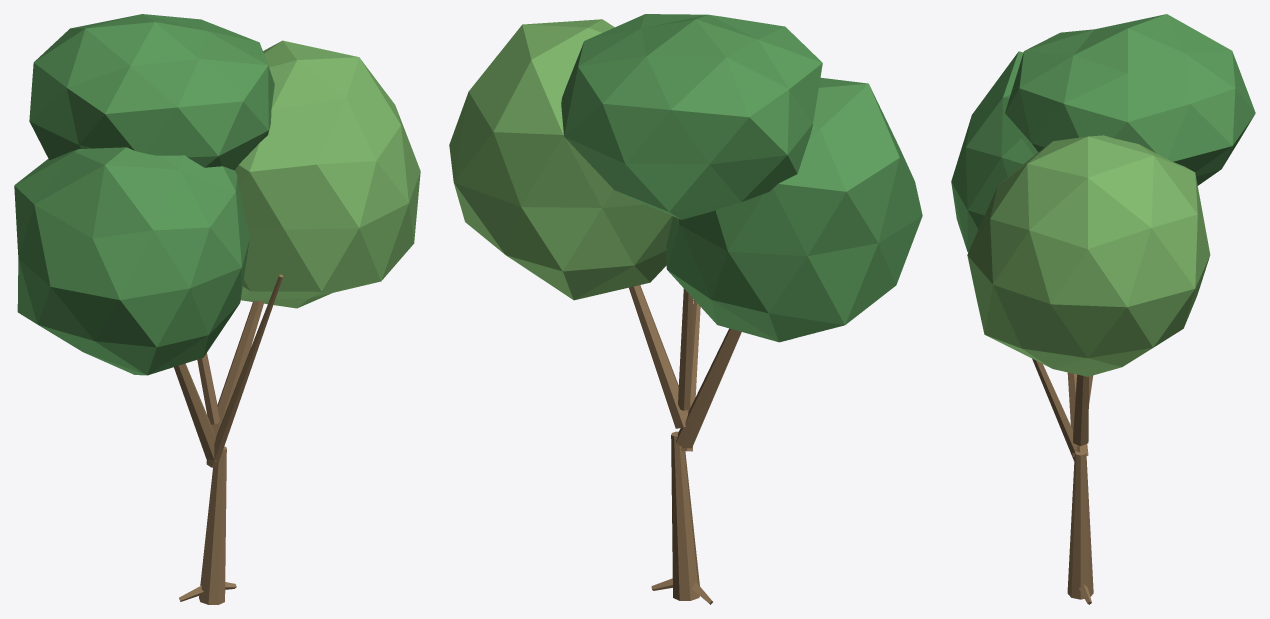
File: oak_02.glb
The picture shows the model from 3 angles, left to right: view 1: azimuth 30°, elevation 25°; view 2: azimuth 150°, elevation 25°; view 3: azimuth 270°, elevation 25°; orthographic projection. The views are drawn at different scales.
Visible parts, largest first — view 1: Oak_02; view 2: Oak_02; view 3: Oak_02.
Part boxes in pixels (left/top/right/bottom): Oak_02: left=14, top=14, right=420, bottom=604; Oak_02: left=449, top=14, right=922, bottom=604; Oak_02: left=951, top=14, right=1255, bottom=604.
Size of the model in its own units: 12.02 by 16.7 by 8.37.
